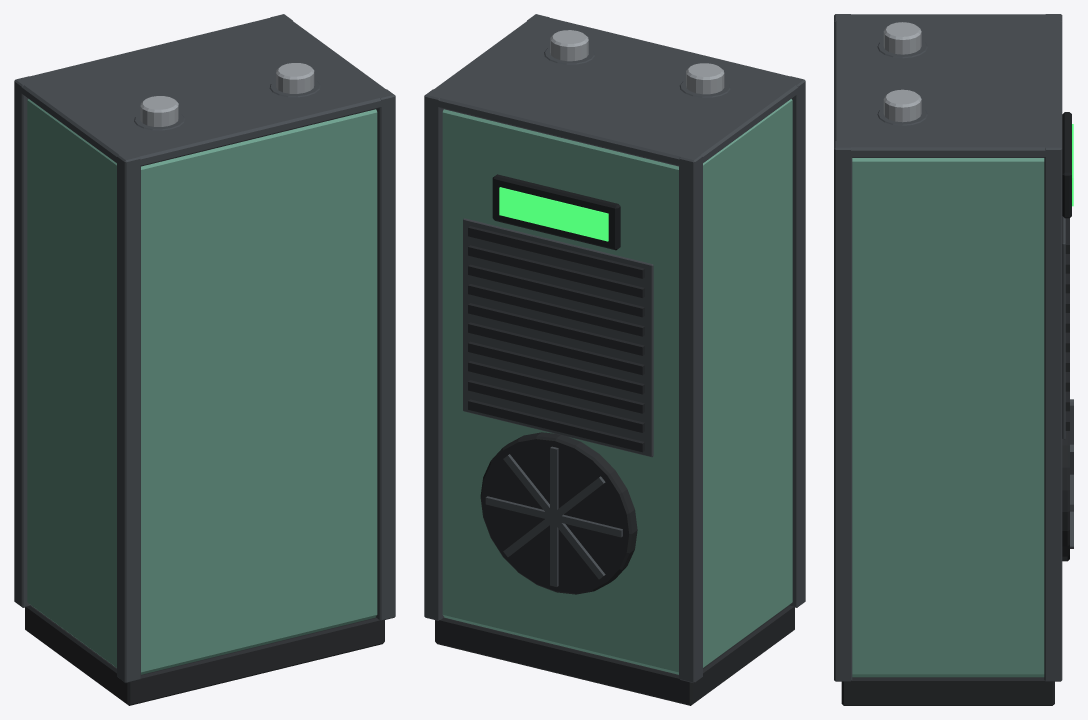
The model's file is air_scrubber.glb.
The picture shows the model from 3 angles, left to right: view 1: azimuth 30°, elevation 25°; view 2: azimuth 150°, elevation 25°; view 3: azimuth 270°, elevation 25°; orthographic projection. The views are drawn at different scales.
Parts seen in each view (by area): view 1: air_scrubber; view 2: air_scrubber; view 3: air_scrubber.
Part boxes in pixels (bbox=[...]): air_scrubber: bbox=[14, 14, 395, 705]; air_scrubber: bbox=[424, 14, 805, 705]; air_scrubber: bbox=[834, 14, 1073, 705].
Bounding box in the file's own units: 0.8 × 1.6 × 0.6.
